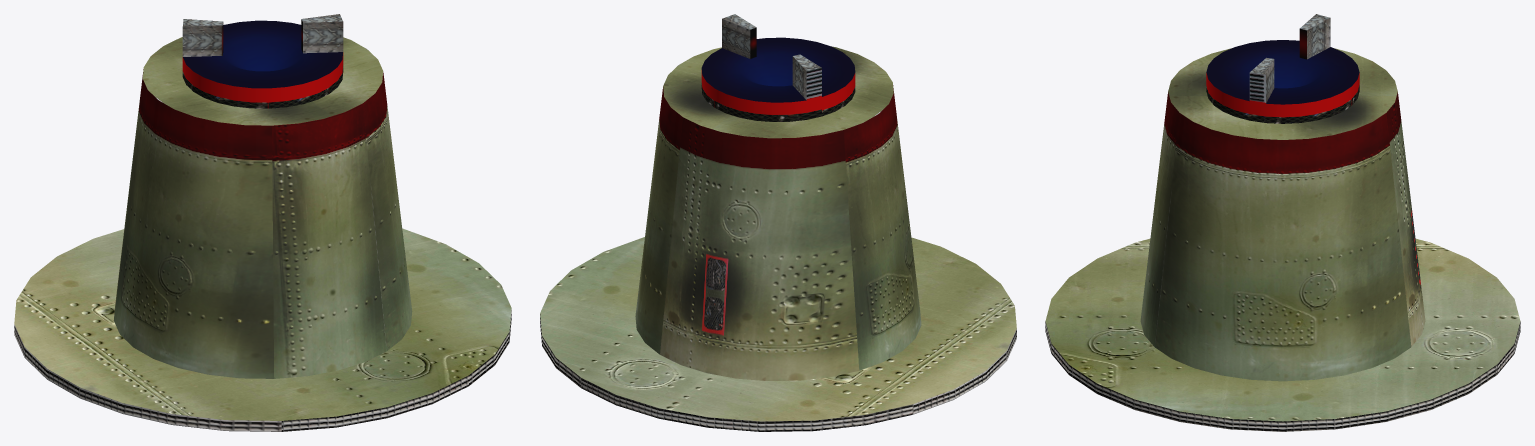
File: towerB_red.fbx
The picture shows the model from 3 angles, left to right: view 1: azimuth 30°, elevation 25°; view 2: azimuth 150°, elevation 25°; view 3: azimuth 270°, elevation 25°; orthographic projection. The views are drawn at different scales.
Visible parts, largest first — view 1: pCylinder1; view 2: pCylinder1; view 3: pCylinder1.
Boxes of the visible parts, x1=… form: pCylinder1: x1=14, y1=14, x2=511, y2=431; pCylinder1: x1=540, y1=14, x2=1016, y2=431; pCylinder1: x1=1045, y1=14, x2=1520, y2=431.
Bounding box in the file's own units: 24.3 × 16.28 × 24.3.
1 material, 1 textured.
